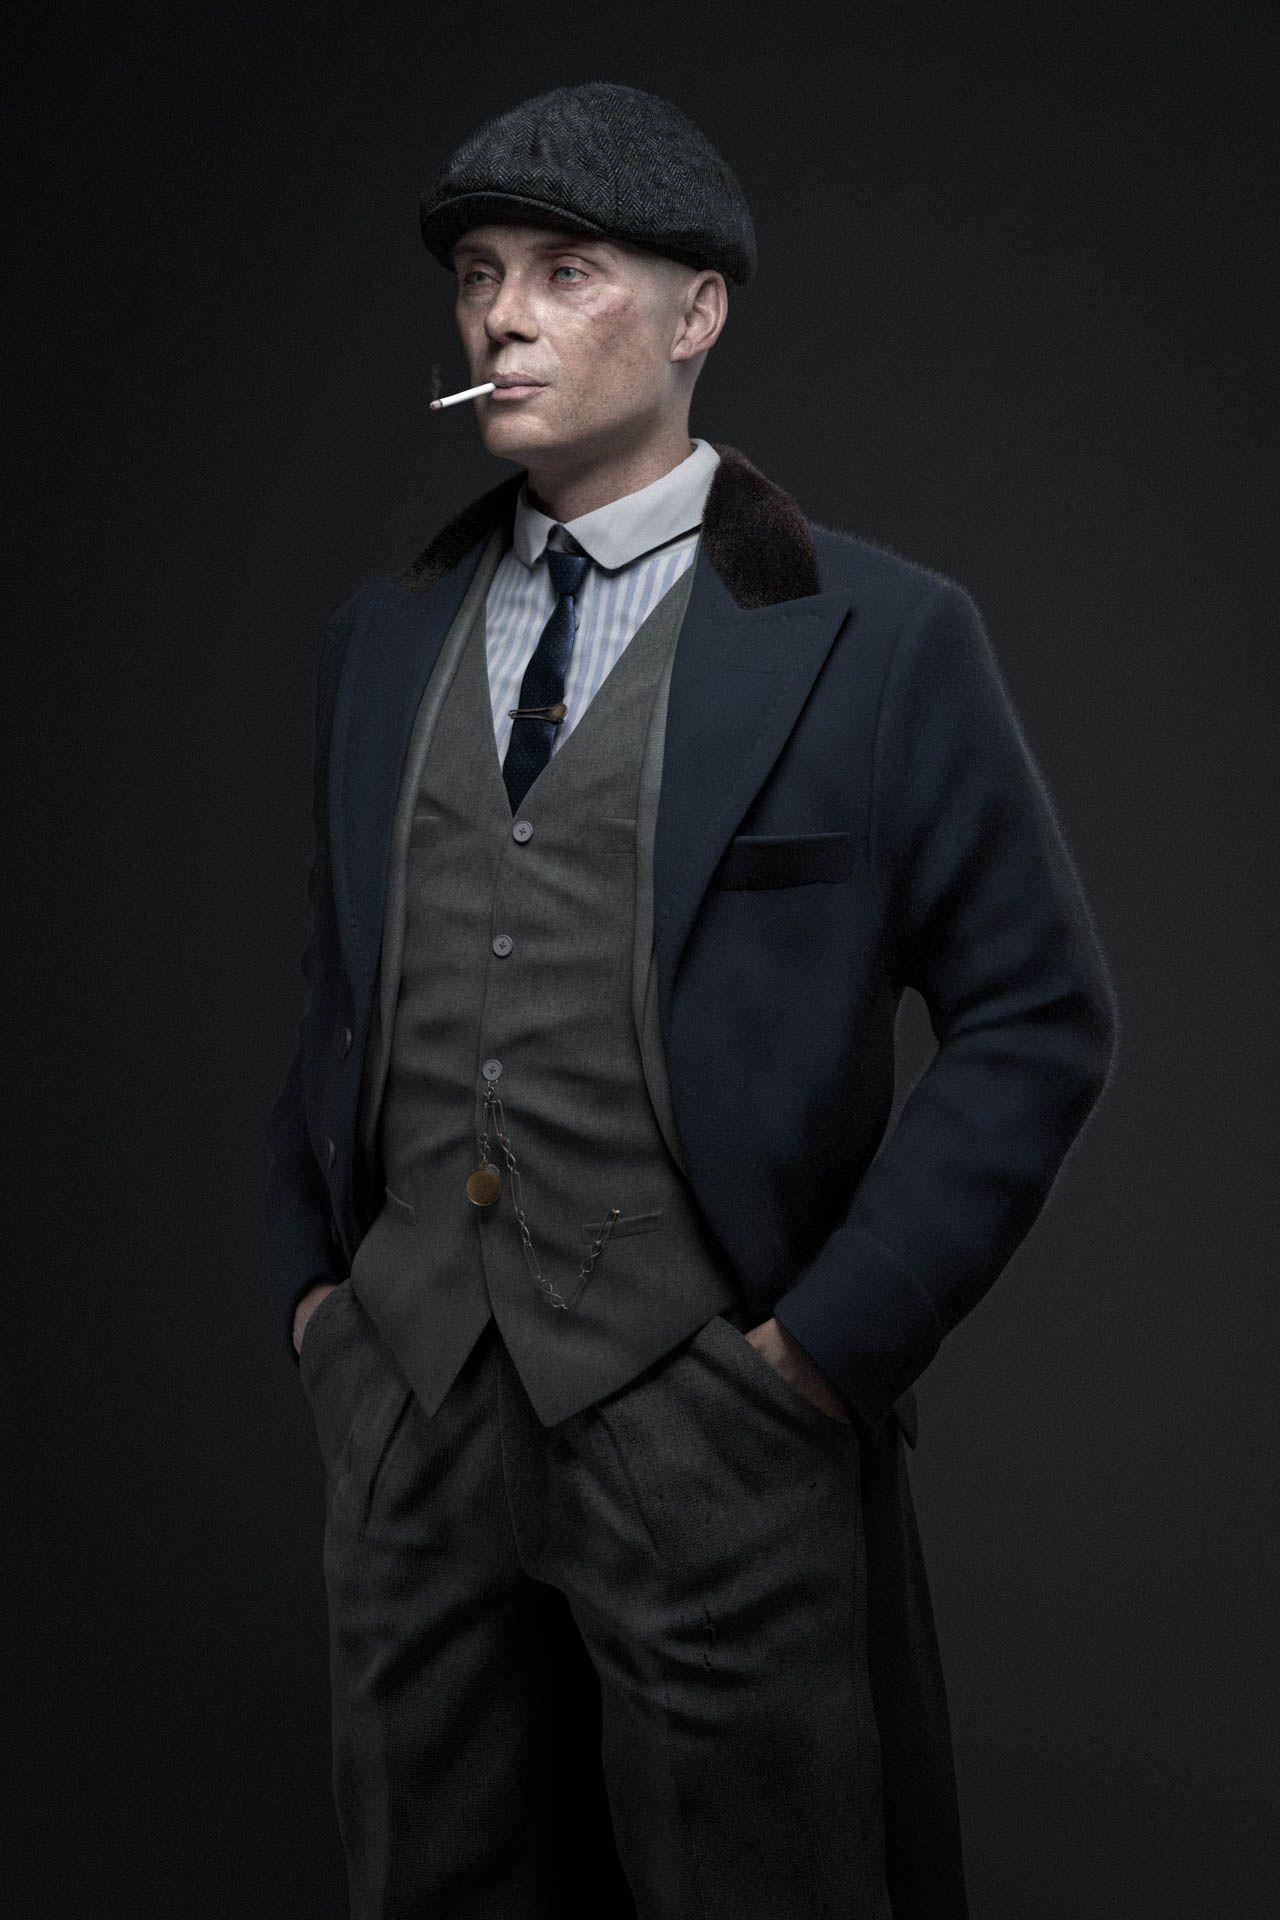cigarette: (429, 380, 499, 411)
